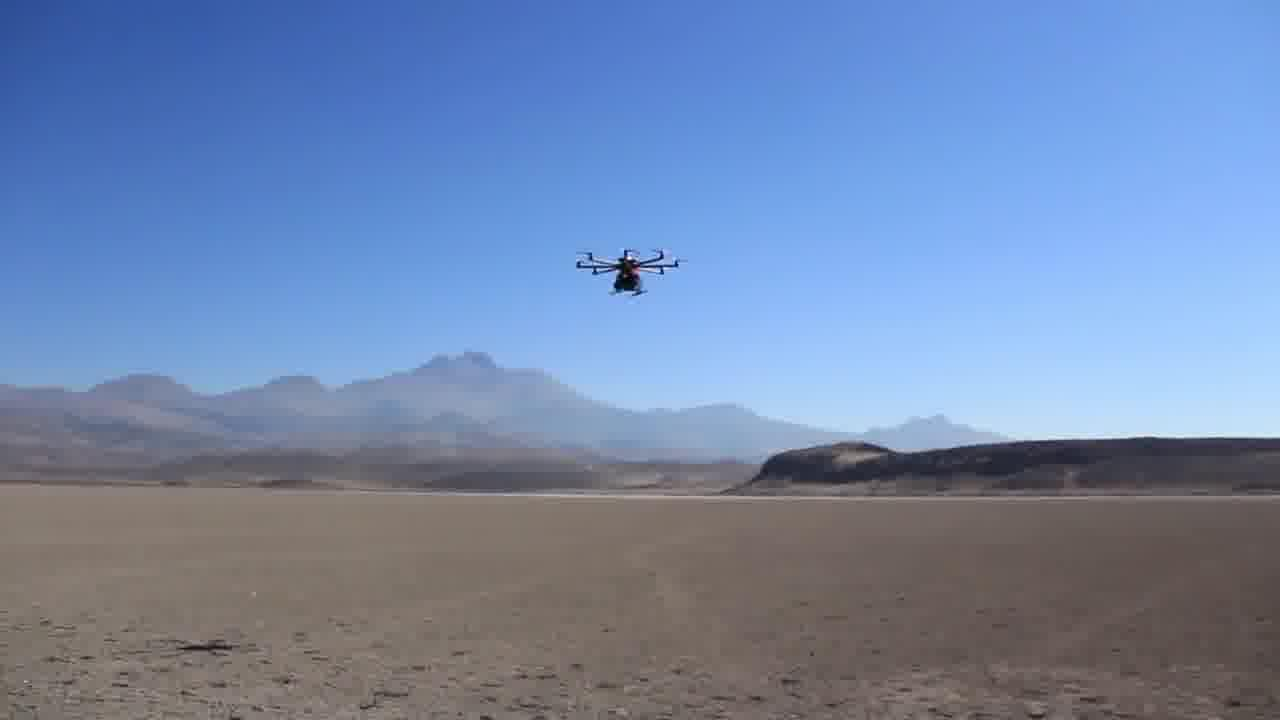drone: (568, 240, 690, 303)
